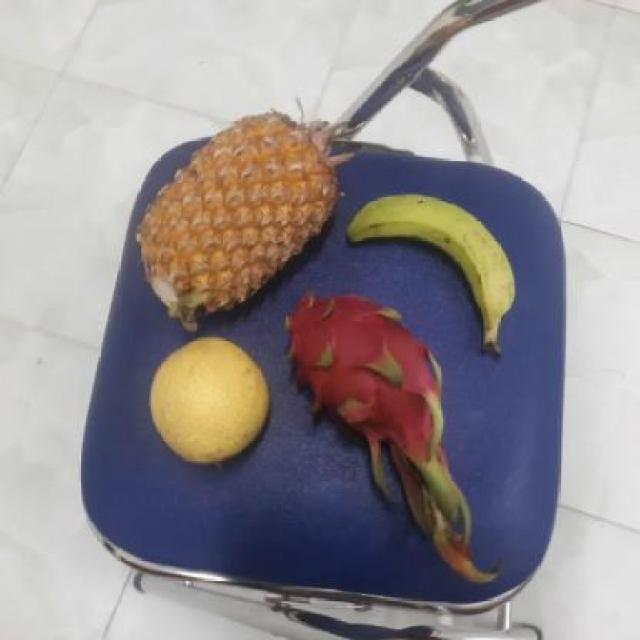banana: (339, 192, 513, 346)
dragon fruit: (273, 292, 449, 463)
pear: (144, 341, 270, 465)
pineapple: (133, 118, 339, 324)
